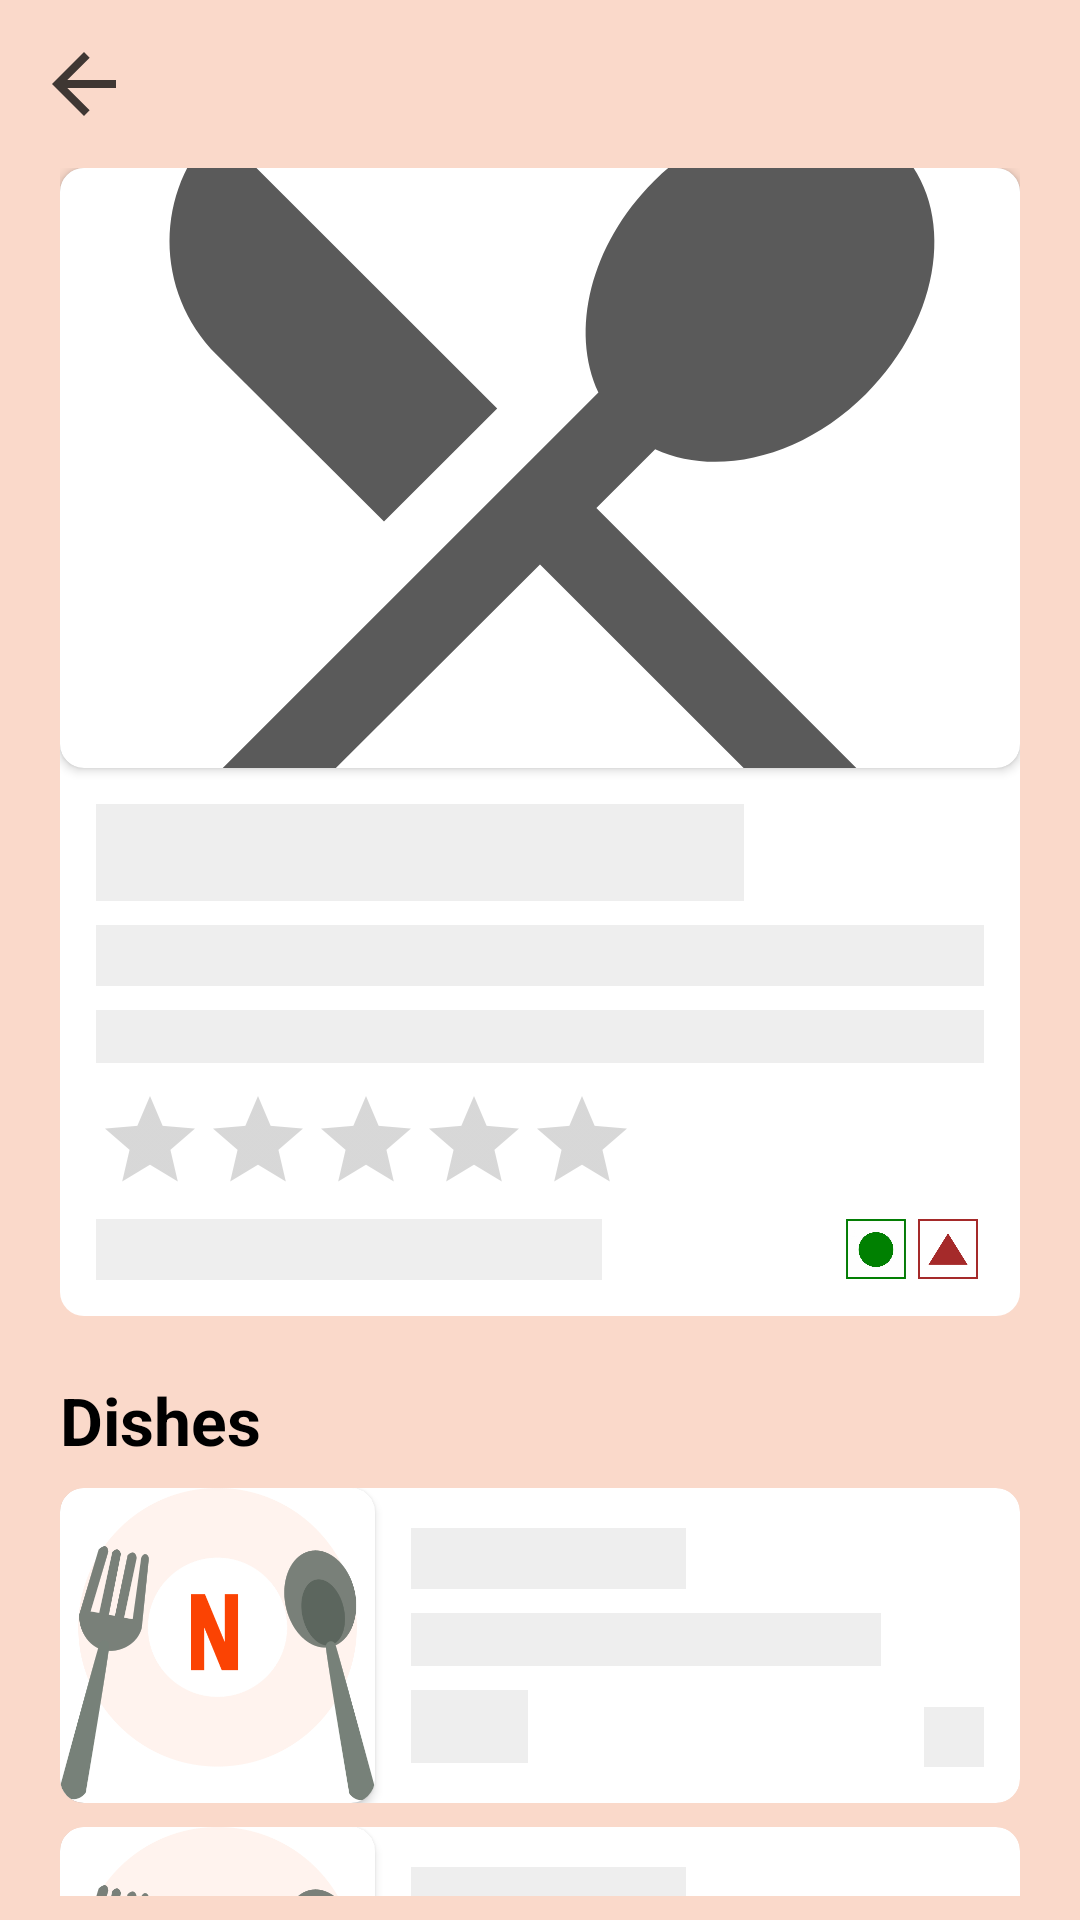

Icon bounding boxes for this 1080 × 1920 phone screenshot, format {"x1": x1, "y1": y1, "x2": x2, "y2": y2}:
left back: {"x1": 52, "y1": 52, "x2": 116, "y2": 116}
non veg: {"x1": 918, "y1": 1219, "x2": 978, "y2": 1279}
veg: {"x1": 846, "y1": 1219, "x2": 906, "y2": 1279}
